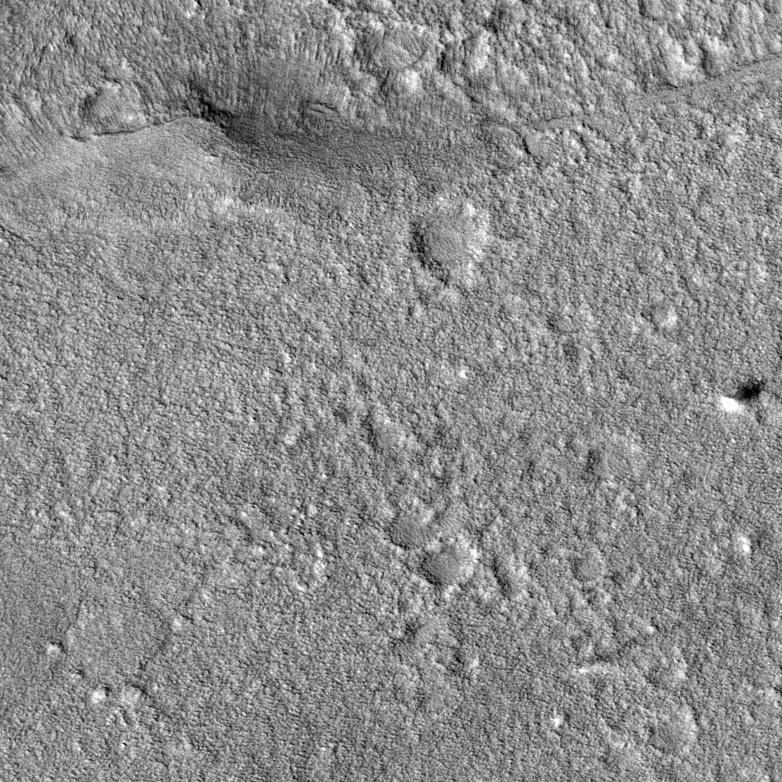dust_devil: (719, 377, 769, 417)
